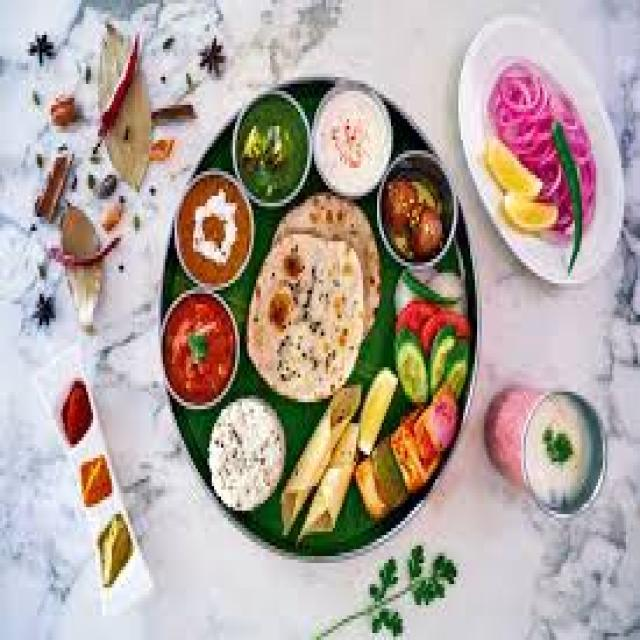papad: (236, 190, 392, 404)
pickle: (51, 380, 98, 458)
roti: (246, 197, 383, 397)
sambar-rasam: (159, 292, 248, 403)
sweet: (167, 168, 259, 294), (206, 398, 291, 513), (314, 88, 395, 192), (377, 163, 457, 261)
